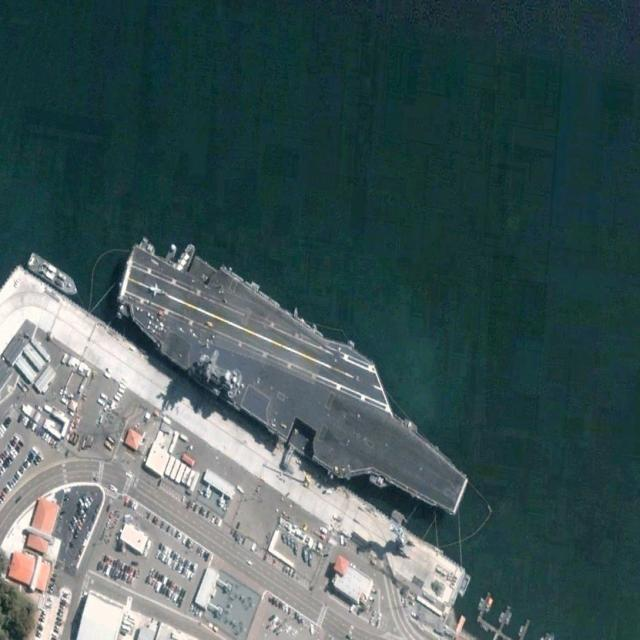Aircraft Carrier: (102, 213, 486, 545)
